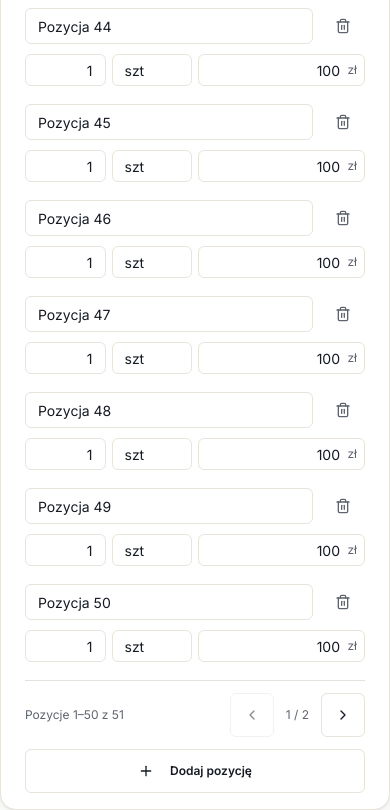
WorkspaceLineItems — pagination › navigates back to first page via previous button
The width and height of the screenshot is (390, 810).
(page scrolled)
Click the button named "następna strona": [343, 715] box [321, 693, 365, 737]
(page scrolled)
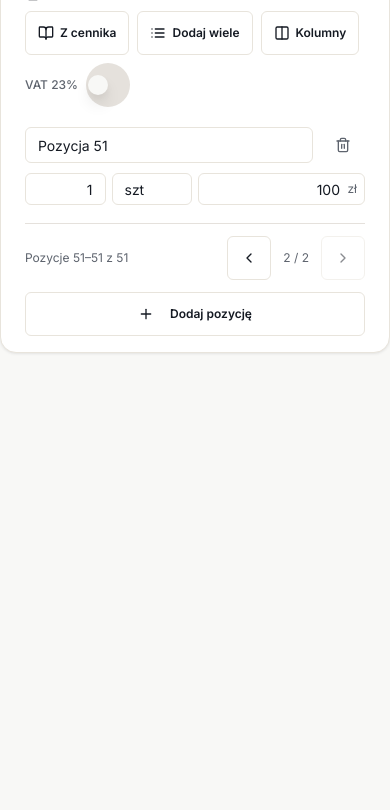
Click the button named "poprzednia strona": [249, 258] box [227, 236, 271, 280]
(page scrolled)
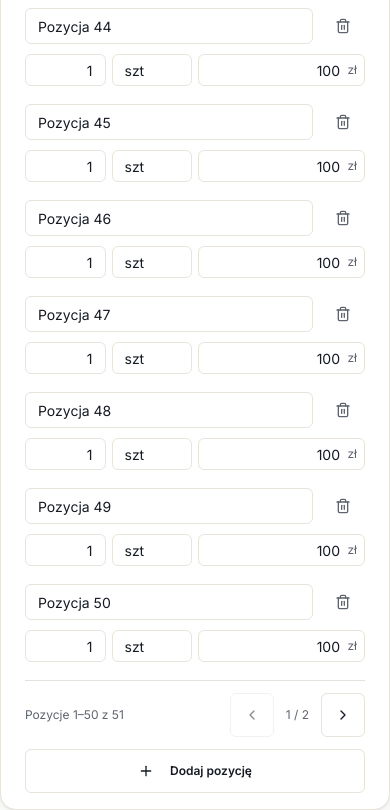
Now the text "Pozycje 1–50 z 51" is shown, box [25, 707, 124, 723]
